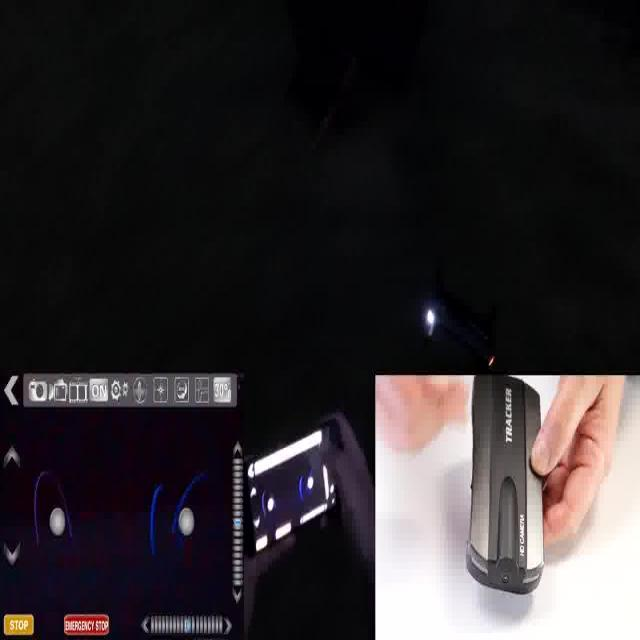drones: (408, 240, 511, 389)
